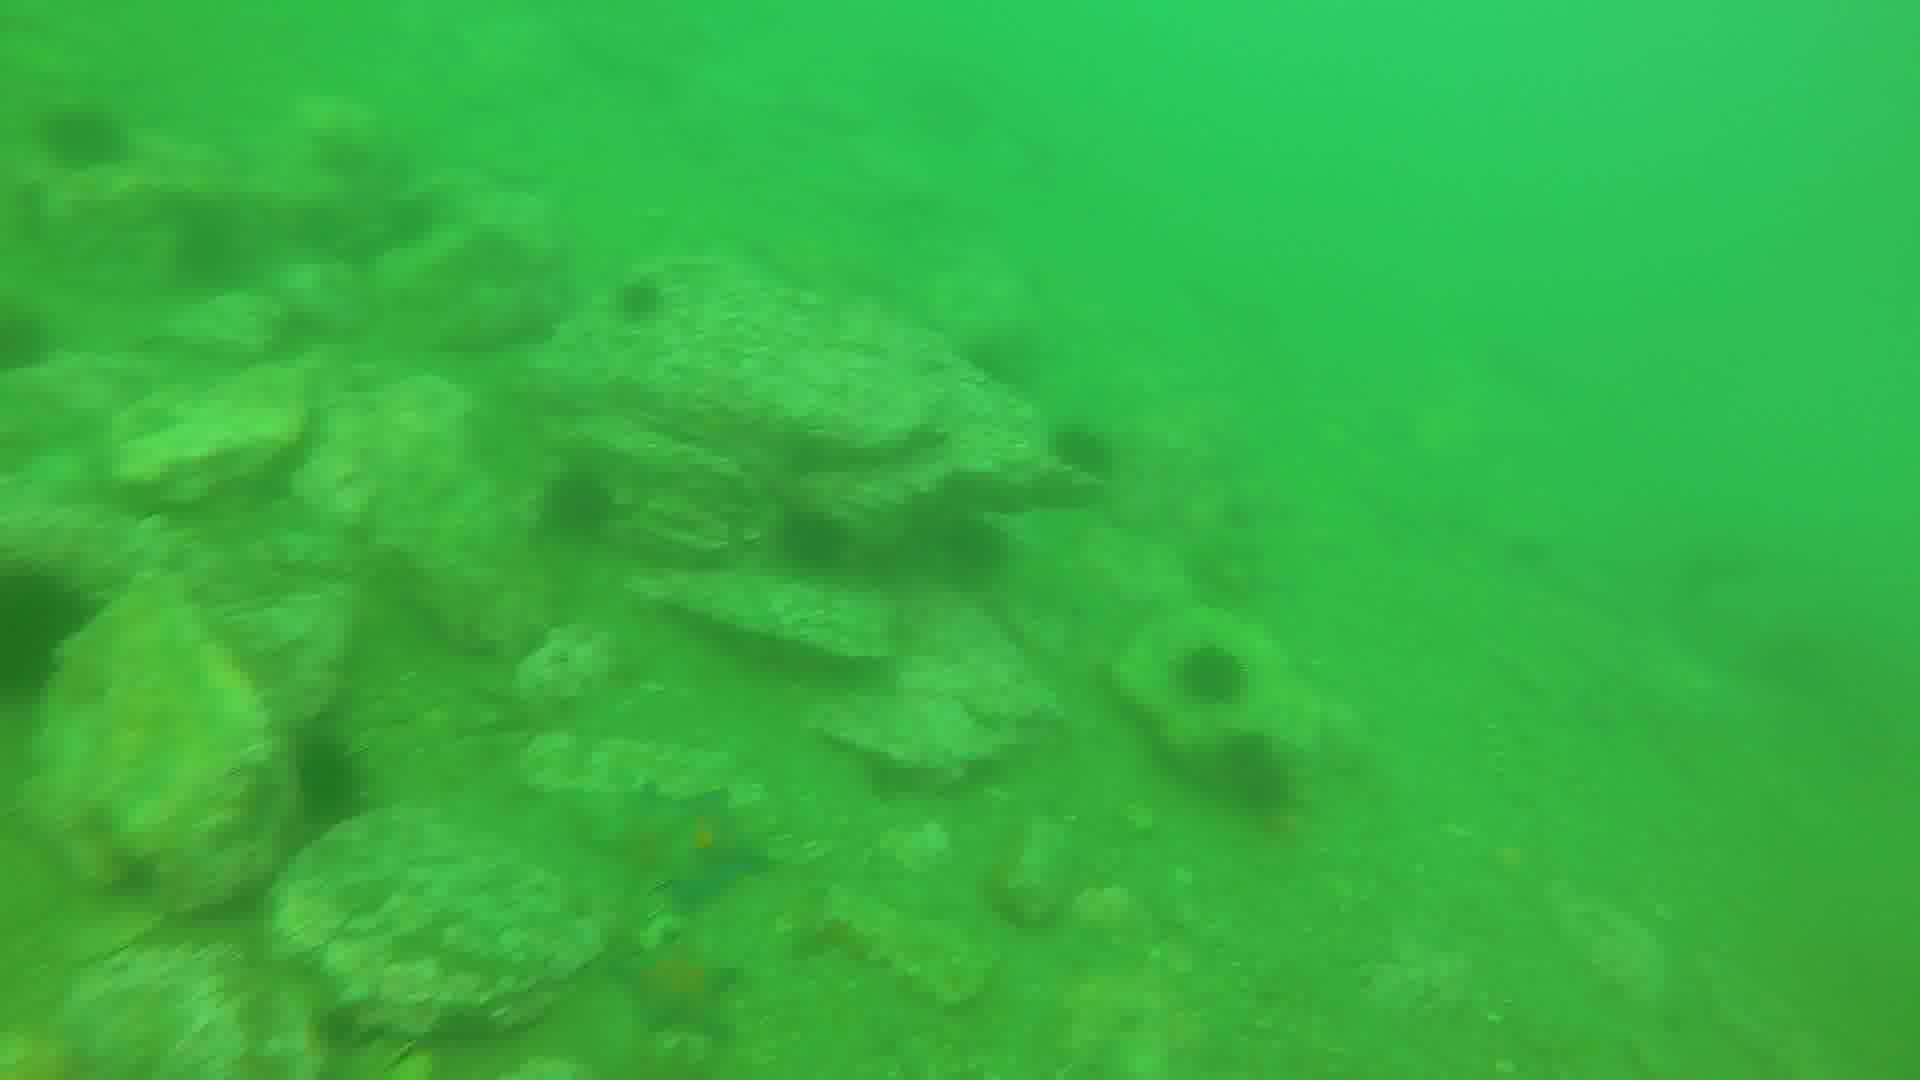echinus: (1, 574, 92, 688), (280, 728, 368, 833), (1220, 738, 1303, 819), (1043, 421, 1122, 491), (51, 104, 133, 171), (1176, 644, 1254, 712), (938, 517, 1021, 580), (556, 471, 621, 541), (783, 512, 862, 566), (1, 315, 65, 377), (603, 277, 673, 323)
starfish: (615, 931, 753, 1042), (633, 789, 761, 898)
